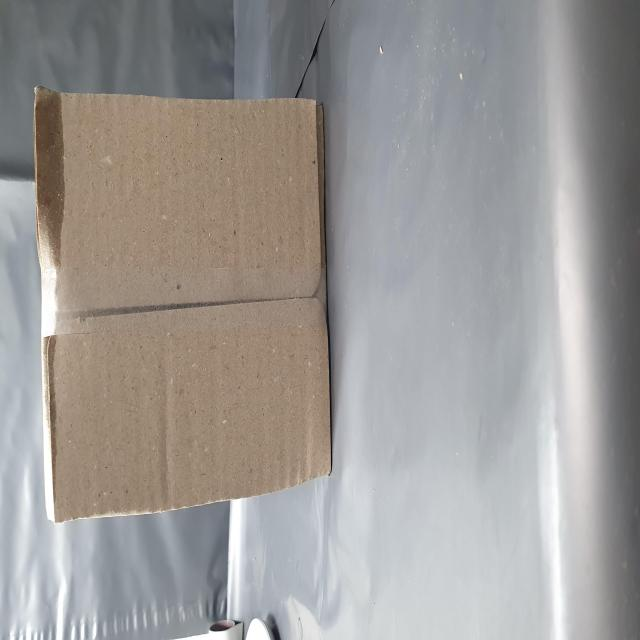wet: (142, 65, 308, 129)
